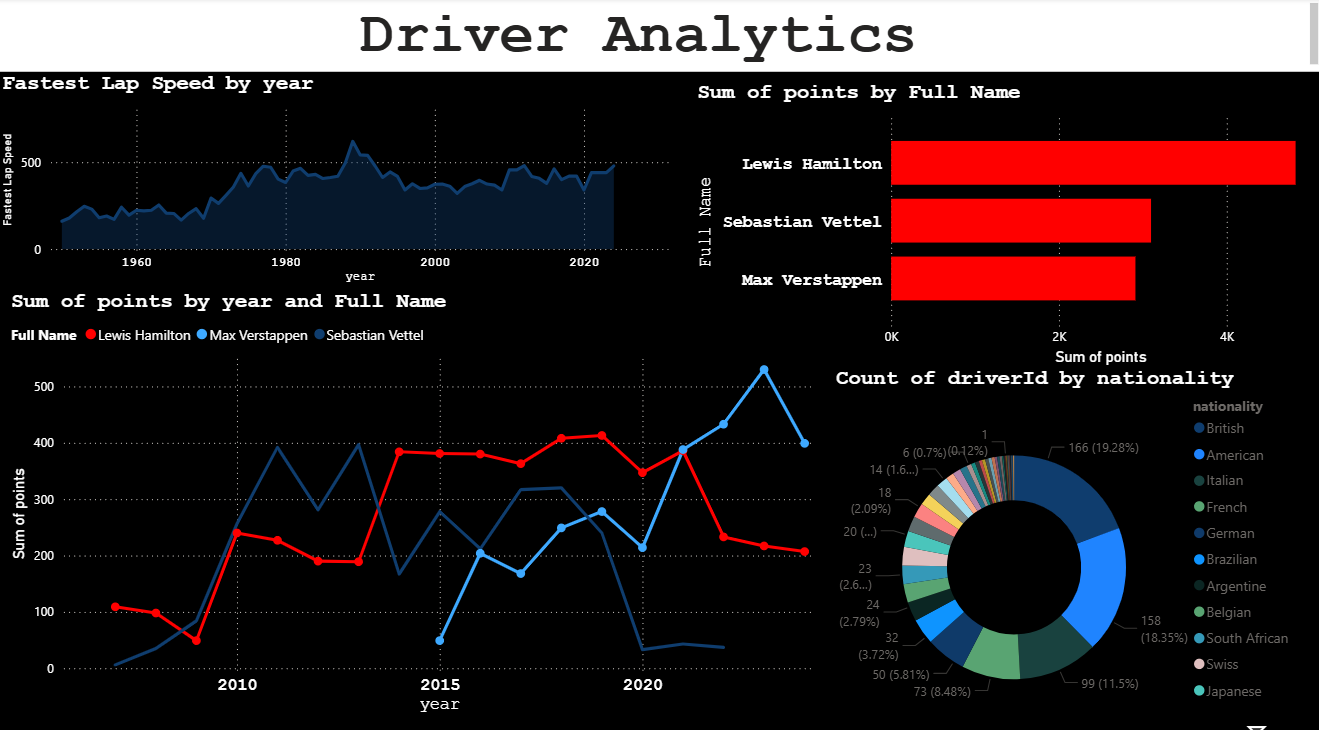

Layout of this report page (visuals, bound fields, positions):
{"tool":"powerbi","page":{"name":"Driver Analytics Dashboard","canvas":[1280,720],"ordinal":1},"visuals":[{"type":"textbox","box":[0,0,1280,71.2],"z":0},{"type":"lineChart","fields":{"Category":["races.year"],"Y":["Sum(results.points)"],"Series":["drivers.Full Name"]},"box":[8.4,281.1,796.3,415],"z":1000},{"type":"barChart","fields":{"Category":["drivers.Full Name"],"Y":["Sum(results.points)"]},"box":[670.8,79.6,609.3,279.9],"z":2000},{"type":"areaChart","fields":{"Category":["races.year"],"Y":["CountNonNull(results.fastestLapSpeed)"]},"box":[0,71.2,658.7,209.9],"z":3000},{"type":"donutChart","fields":{"Category":["drivers.nationality"],"Y":["Count(drivers.driverId)"]},"box":[804.7,355.9,475.3,364.3],"z":4000}]}

Visuals, with their boxes in screenshot pixels (x1, y1, x2, y2), scaled from the page's 1280x720 canvas onto the 1319x730 screenshot:
textbox: (x1=0, y1=0, x2=1318, y2=72)
lineChart - races.year x Sum(results.points): (x1=9, y1=285, x2=829, y2=706)
barChart - drivers.Full Name x Sum(results.points): (x1=691, y1=81, x2=1318, y2=364)
areaChart - races.year x CountNonNull(results.fastestLapSpeed): (x1=0, y1=72, x2=679, y2=285)
donutChart - drivers.nationality x Count(drivers.driverId): (x1=829, y1=361, x2=1318, y2=729)
